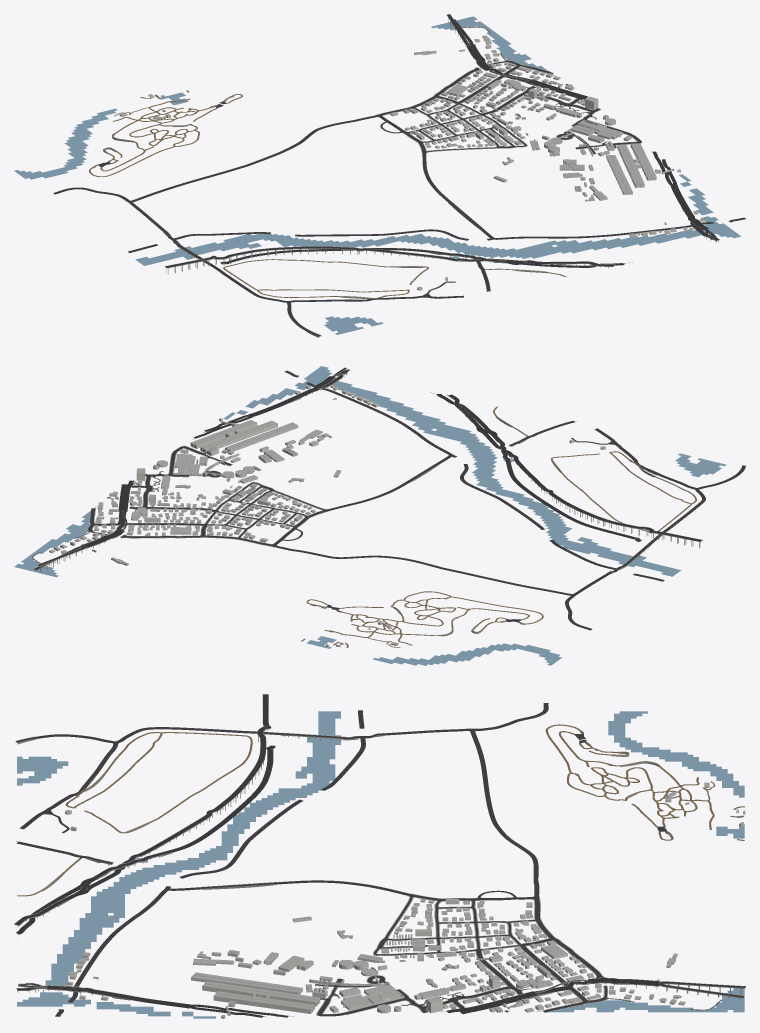
Rendered from chunk_6_3.glb.
3 views of the same model, one above another, from view 1: azimuth 30°, elevation 25°; view 2: azimuth 150°, elevation 25°; view 3: azimuth 270°, elevation 25° (orthographic). The views are drawn at different scales.
Parts seen in each view (by area): view 1: Roads_6_3, Water_6_3, Filler_6_3, Buildings_6_3, RoadSides_6_3; view 2: Roads_6_3, Water_6_3, Buildings_6_3, Filler_6_3, RoadSides_6_3; view 3: Roads_6_3, Water_6_3, Buildings_6_3, Filler_6_3, RoadSides_6_3.
Boxes of the visible parts, x1,y1,x2,y2 form: Roads_6_3: [53, 14, 745, 336]; Water_6_3: [14, 16, 740, 334]; Filler_6_3: [390, 35, 704, 237]; Buildings_6_3: [119, 45, 680, 290]; RoadSides_6_3: [92, 14, 719, 337]; Roads_6_3: [32, 367, 745, 647]; Water_6_3: [14, 366, 725, 665]; Buildings_6_3: [70, 397, 605, 647]; Filler_6_3: [49, 385, 379, 553]; RoadSides_6_3: [33, 367, 745, 644]; Roads_6_3: [14, 694, 745, 1017]; Water_6_3: [17, 711, 744, 1018]; Buildings_6_3: [65, 782, 745, 1018]; Filler_6_3: [63, 898, 685, 1013]; RoadSides_6_3: [14, 694, 745, 1015].
Bounding box in the file's own units: 2065 × 60.29 × 2061.
